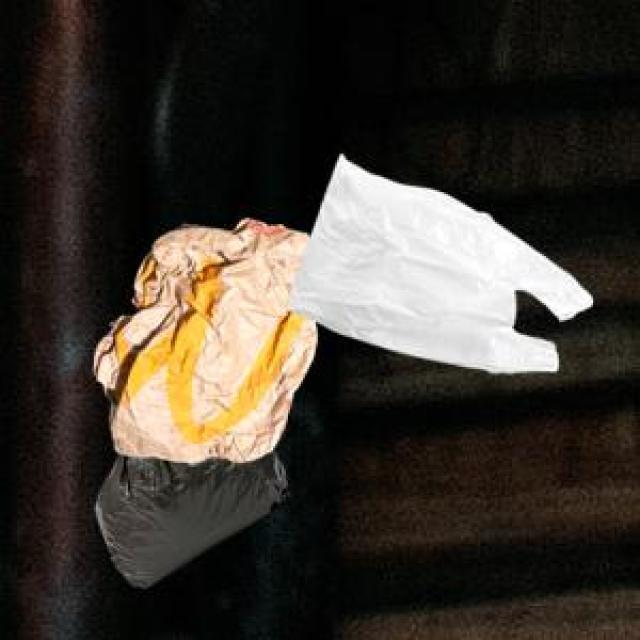miscellaneous trash: (92, 446, 284, 585)
paper: (90, 216, 314, 459)
